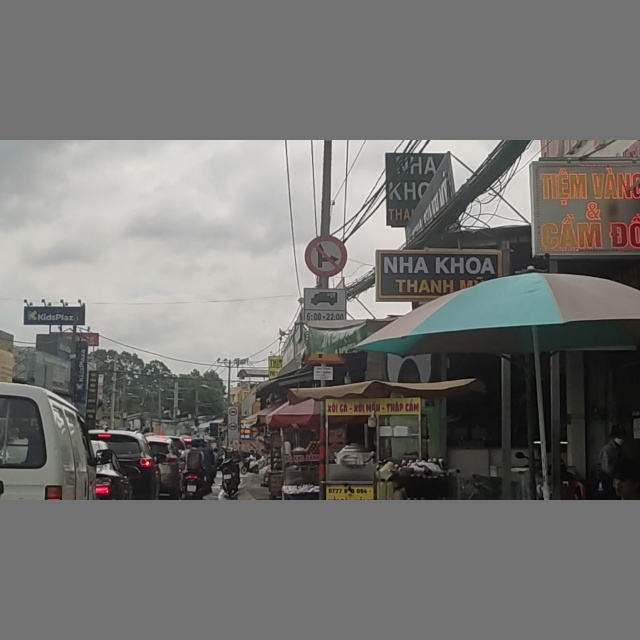P.139: (305, 237, 347, 276)
S.505a*Xe tai: (304, 289, 345, 323)
